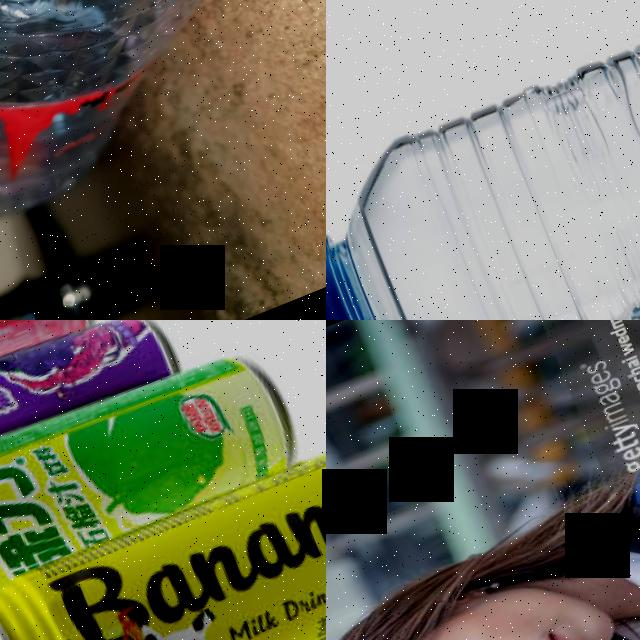bottle: (326, 0, 640, 320), (0, 0, 326, 238)
can: (0, 323, 316, 632), (0, 410, 326, 640), (0, 320, 195, 532)
